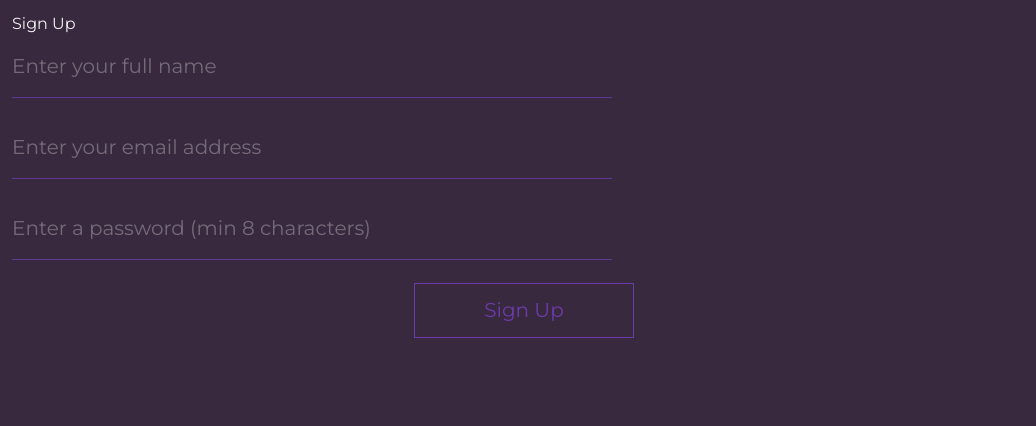
SignUpForm › handles successful sign up
Type "Test User" into the field named "Name:" at (312, 67), box [12, 36, 612, 98]
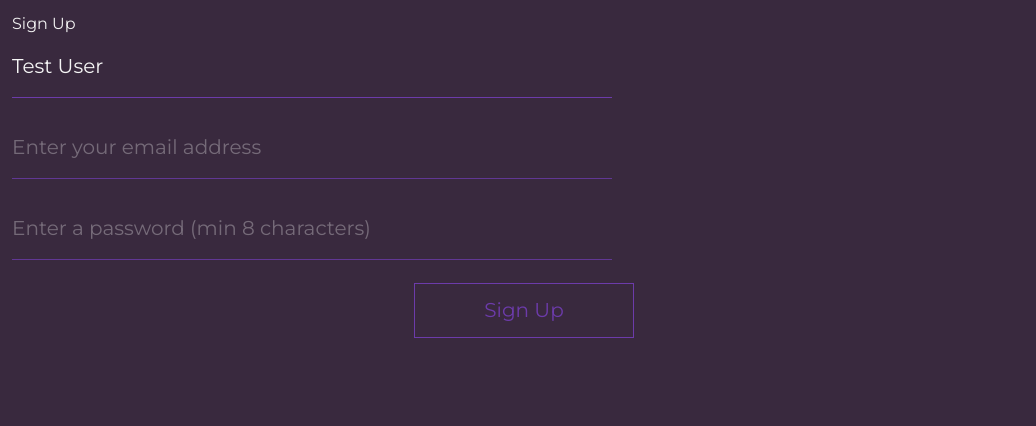
Type "newuser@example.com" into the field named "Email:" at (312, 148), box [12, 117, 612, 179]
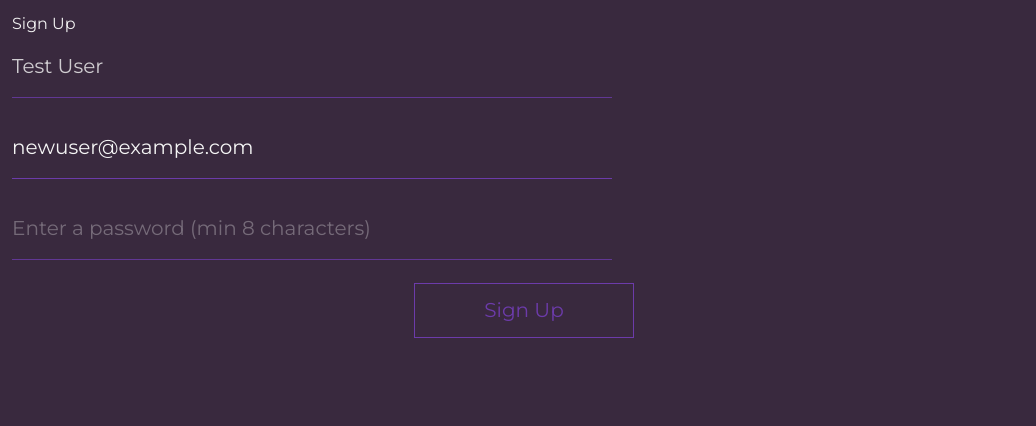
Type "password123" into the password field named "Password:" at (312, 229), box [12, 198, 612, 260]
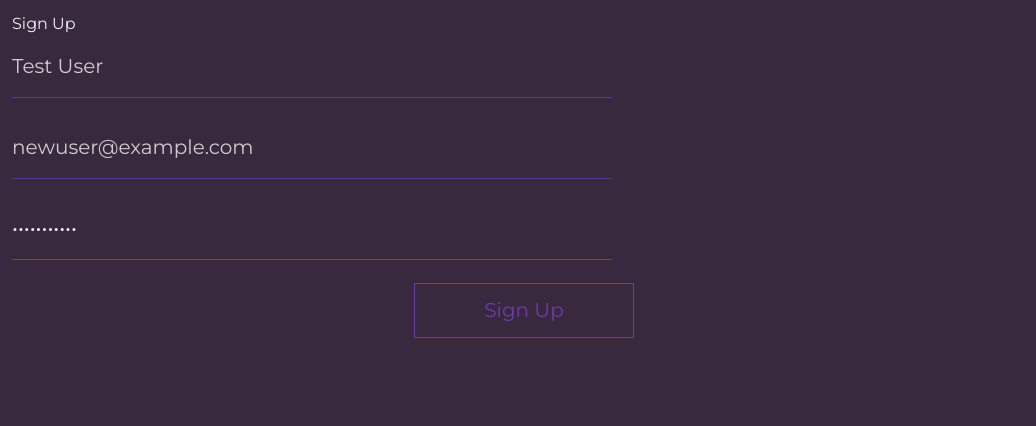
Click the button "Sign Up" at (524, 310), box [414, 283, 634, 338]
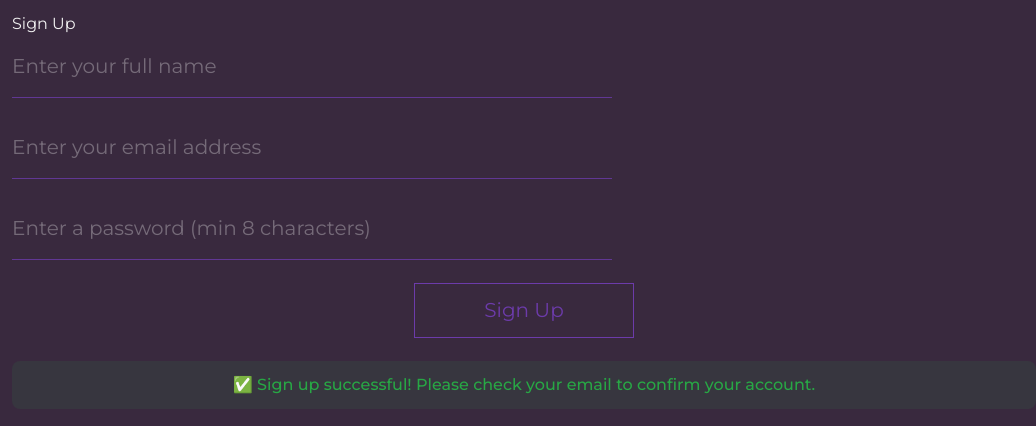
Check: the text "✅ Sign up successful! Please check your email to confirm your account." is shown, box [12, 361, 1035, 409]
